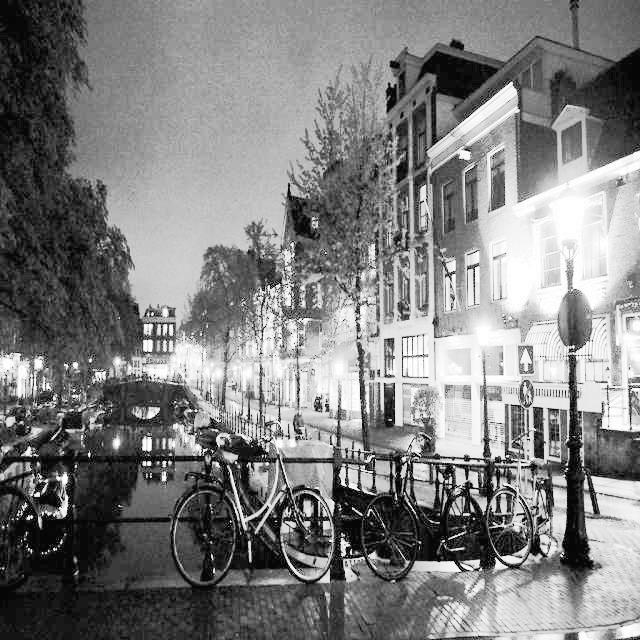Bicycle: (160, 443, 360, 608), (344, 431, 501, 588), (471, 417, 567, 564)
